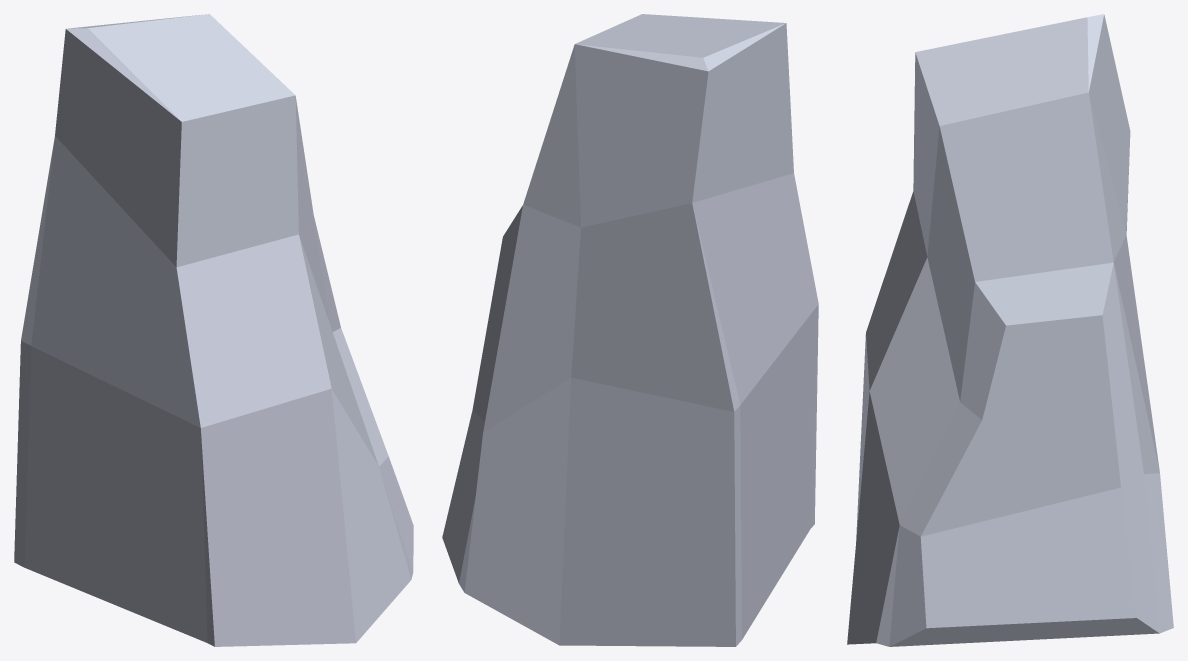
Rendered from rock_1.glb.
The picture shows the model from 3 angles, left to right: view 1: azimuth 30°, elevation 25°; view 2: azimuth 150°, elevation 25°; view 3: azimuth 270°, elevation 25°; orthographic projection. The views are drawn at different scales.
Parts seen in each view (by area): view 1: Rock_1; view 2: Rock_1; view 3: Rock_1.
Part boxes in pixels (x1,y1,x2,y2): Rock_1: (14,14,413,646); Rock_1: (442,14,818,646); Rock_1: (847,14,1173,646).
Size of the model in its own units: 0.4853 by 0.8777 by 0.4668.
